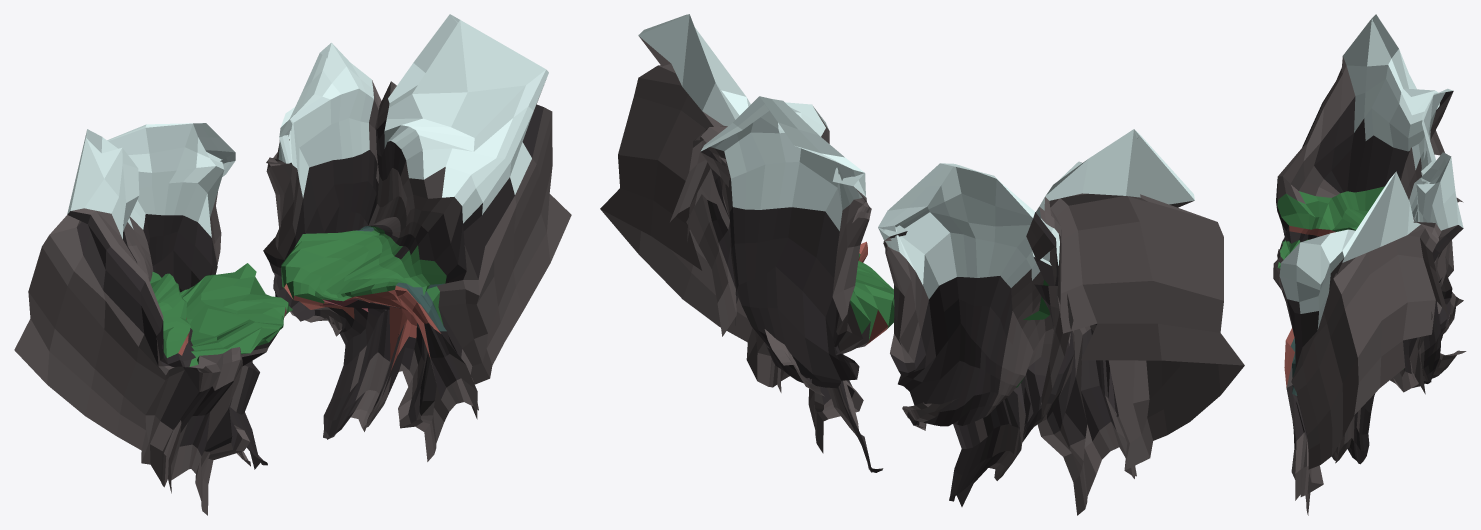
The model's file is Ground_Cliff.fbx.
3 views of the same model, side by side, from view 1: azimuth 30°, elevation 25°; view 2: azimuth 150°, elevation 25°; view 3: azimuth 270°, elevation 25° (orthographic). The views are drawn at different scales.
Visible parts, largest first — view 1: Cliff_Ground; view 2: Cliff_Ground; view 3: Cliff_Ground.
Part boxes in pixels (x1=…): Cliff_Ground: x1=14, y1=14, x2=571, y2=515; Cliff_Ground: x1=600, y1=14, x2=1244, y2=515; Cliff_Ground: x1=1273, y1=14, x2=1466, y2=515.
Size of the model in its own units: 2827 by 898 by 1926.
